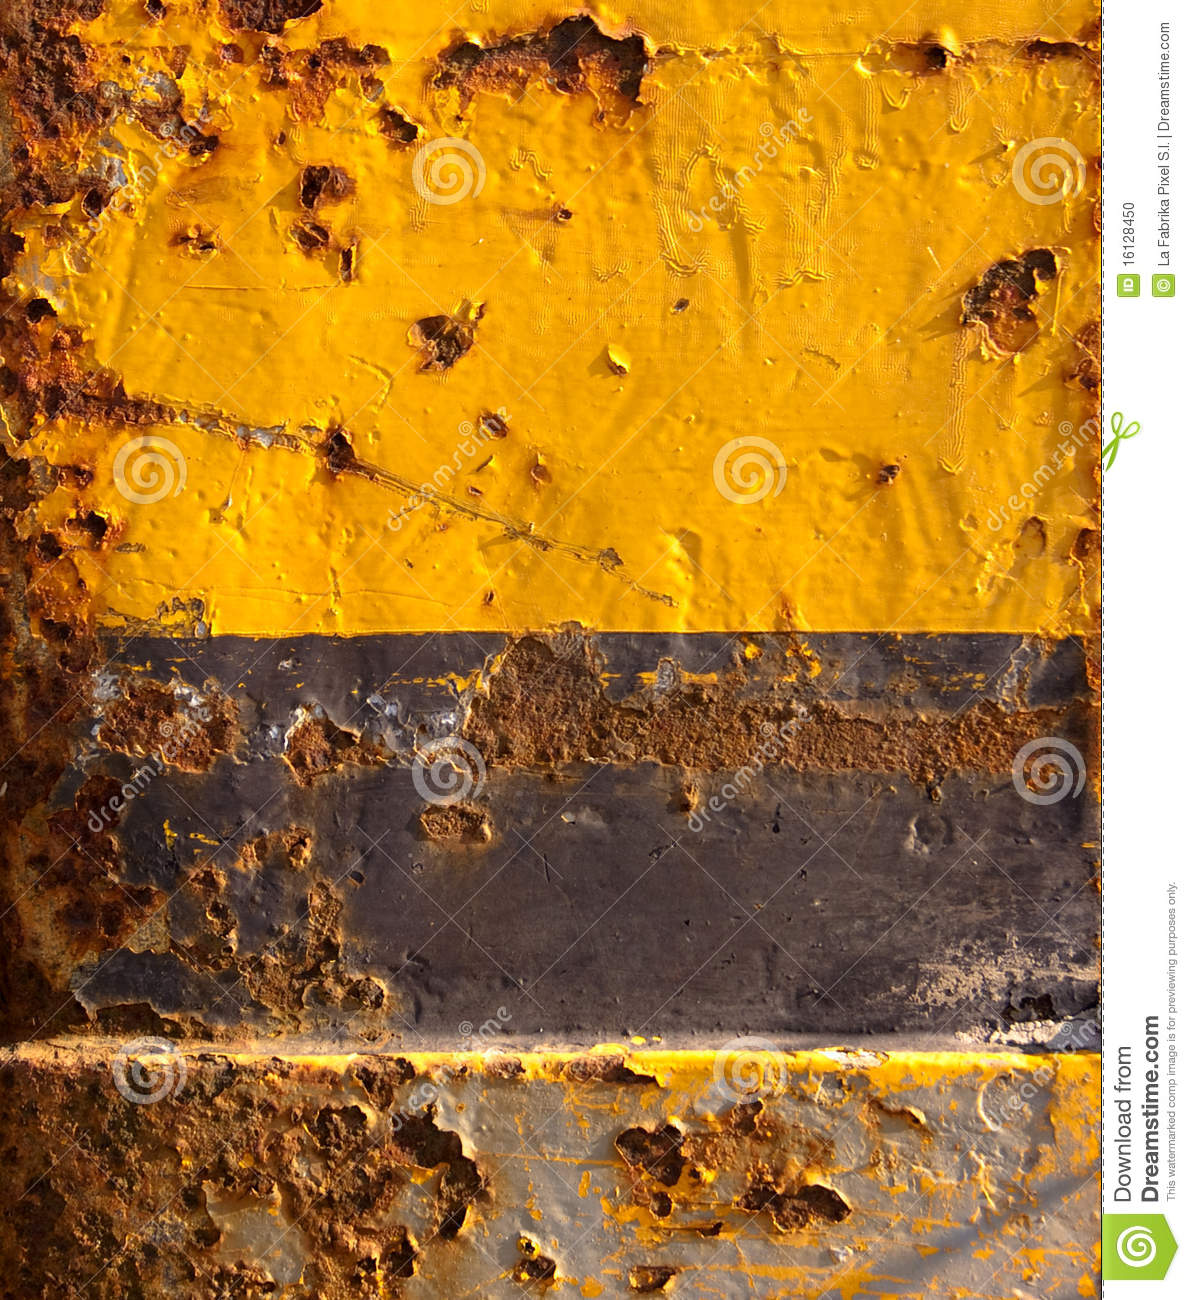rust: (474, 642, 1091, 813), (10, 1074, 471, 1295), (12, 578, 79, 1025), (431, 17, 656, 127), (7, 8, 119, 209), (394, 314, 491, 384)
